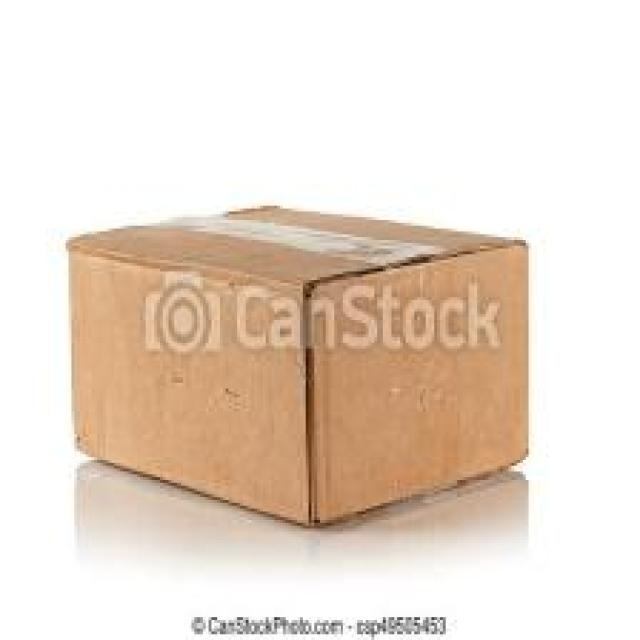box: (86, 86, 548, 609)
crushed: (237, 219, 491, 408)
